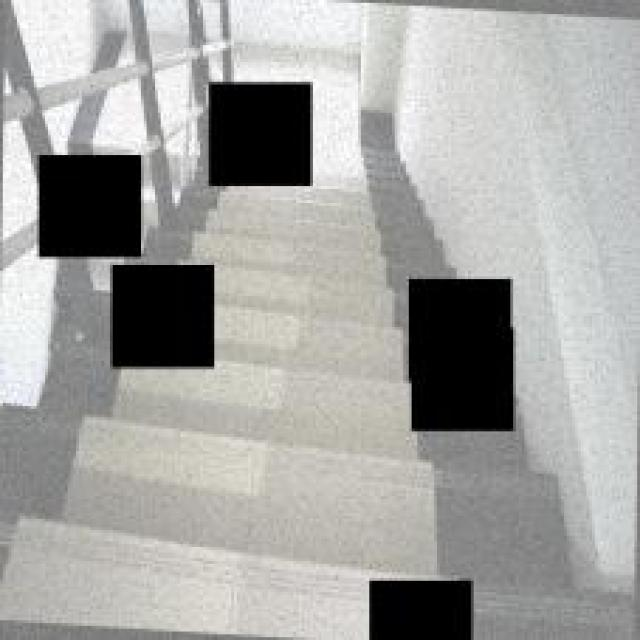downstair: (220, 209, 403, 572)
